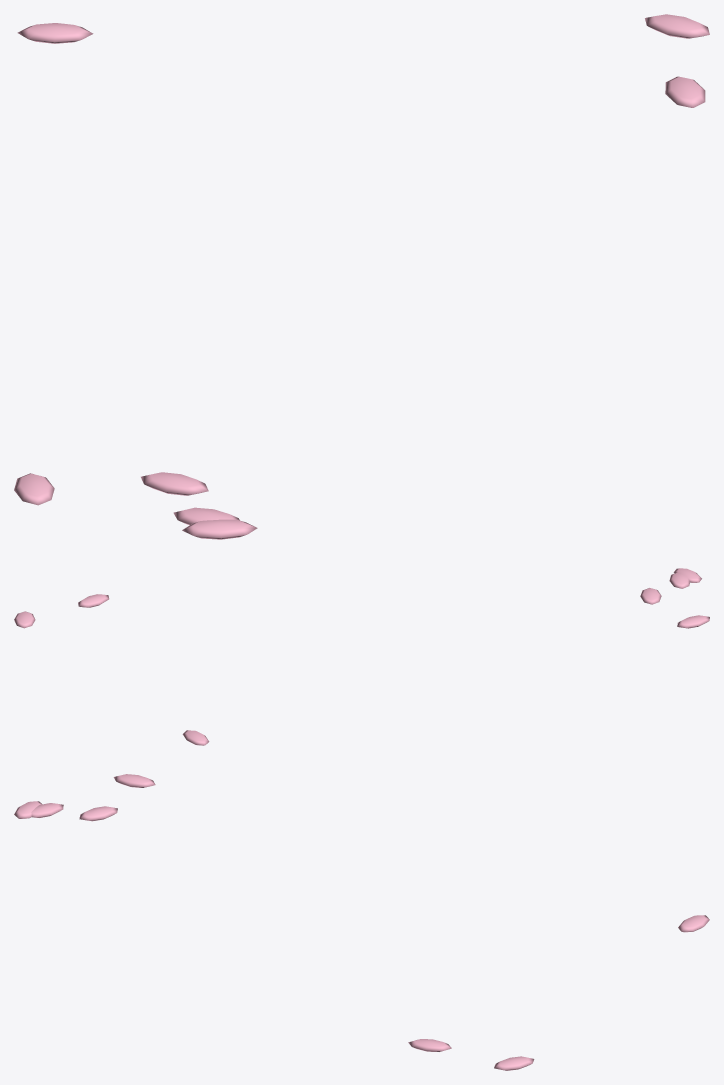
Rendered from layer_spring_sparse.glb.
3 views of the same model, one above another, from view 1: azimuth 30°, elevation 25°; view 2: azimuth 150°, elevation 25°; view 3: azimuth 270°, elevation 25° (orthographic). The views are drawn at different scales.
Bounding box in the file's own units: 2.12 × 0.025 × 2.11.
